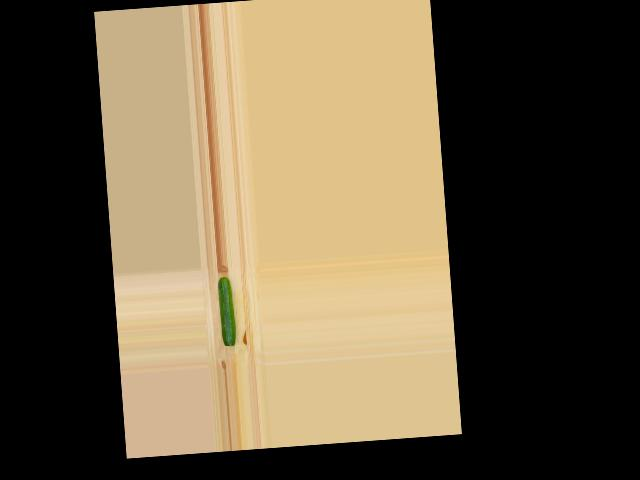cucumber: (217, 276, 236, 346)
